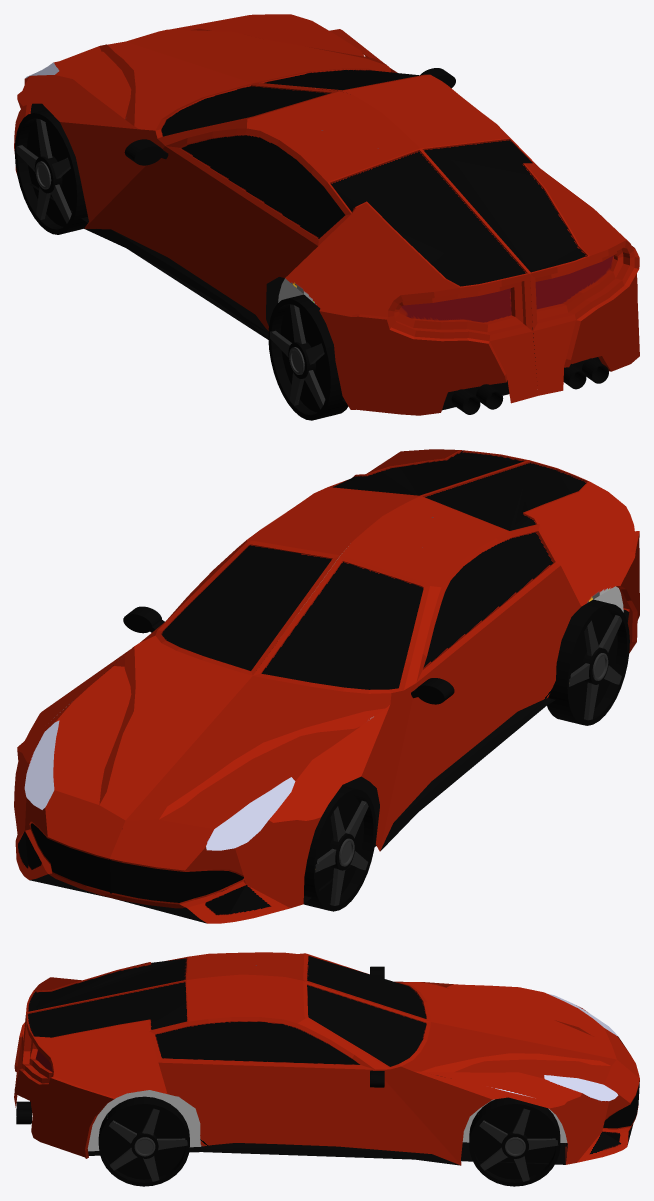
File: SportsCar2.fbx
The picture shows the model from 3 angles, top to bottom: view 1: azimuth 30°, elevation 25°; view 2: azimuth 150°, elevation 25°; view 3: azimuth 270°, elevation 25°; orthographic projection. The views are drawn at different scales.
Parts seen in each view (by area): view 1: CarBody, RLW, FLW; view 2: CarBody, RLW, FLW; view 3: CarBody, RRW, FRW.
Part boxes in pixels (box(x1,y1,x2,y2)): CarBody: box(14, 14, 639, 415); RLW: box(268, 294, 348, 420); FLW: box(14, 109, 87, 234); CarBody: box(14, 449, 639, 923); RLW: box(547, 599, 629, 725); FLW: box(304, 785, 376, 911); CarBody: box(14, 952, 639, 1165); RRW: box(98, 1096, 189, 1186); FRW: box(469, 1097, 560, 1186).
Size of the model in its own units: 3749 by 2426 by 8658.
